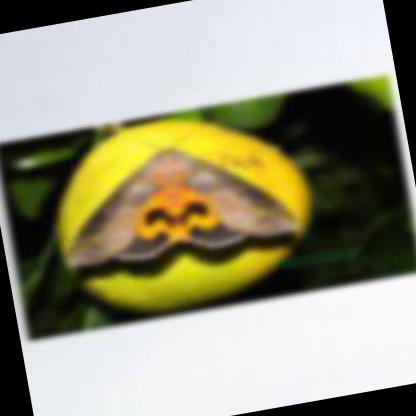fruit sucking moth: (65, 148, 305, 268)
